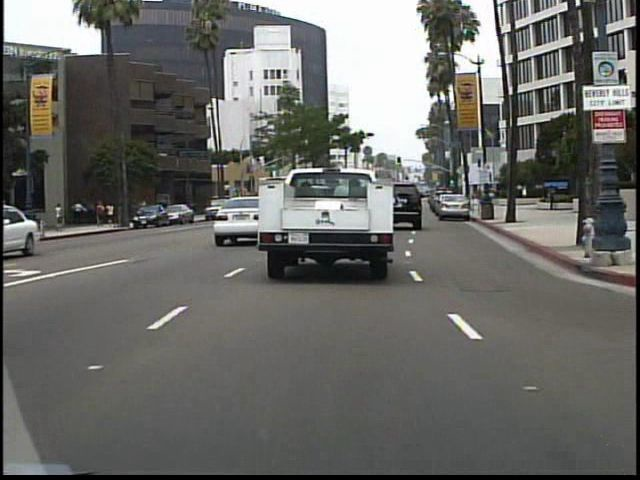person: (546, 183, 557, 214), (56, 202, 67, 227)
